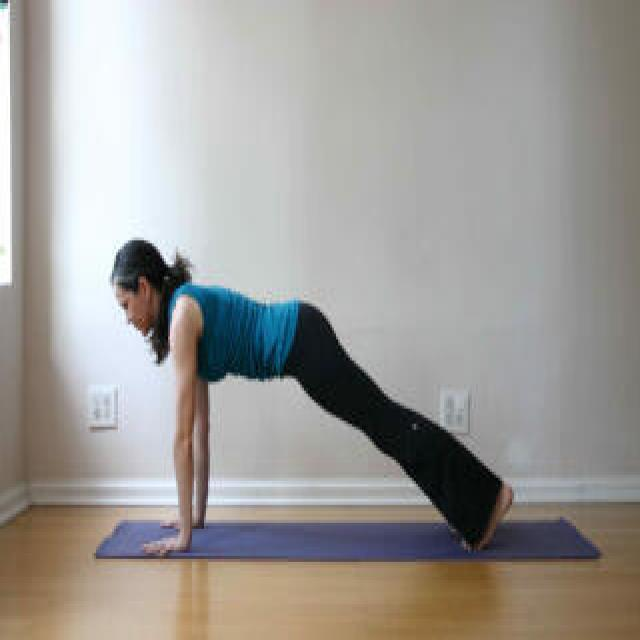yoga-pose plank: (104, 230, 516, 561)
